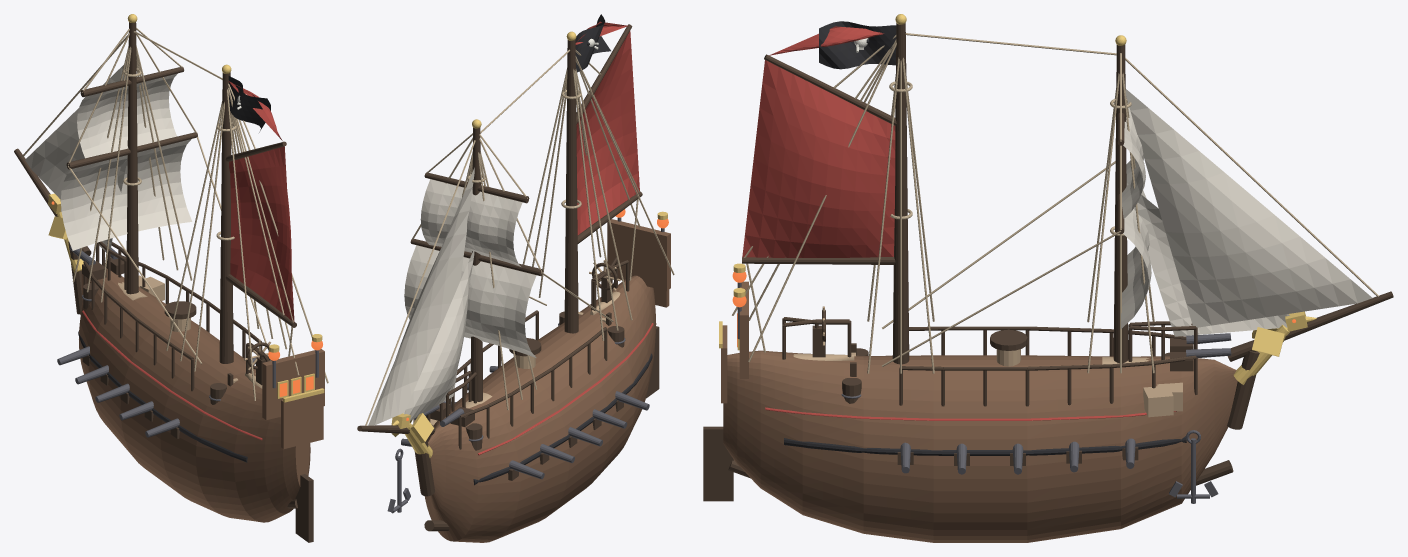
The model's file is dreadbanner_pirate_brigantine.glb.
3 views of the same model, side by side, from view 1: azimuth 30°, elevation 25°; view 2: azimuth 150°, elevation 25°; view 3: azimuth 270°, elevation 25° (orthographic). The views are drawn at different scales.
Visible parts, largest first — view 1: hull, fore_course, main_gaffsail, fore_topsail, mainmast, foremast, flying_jib, stern_wall, transom, rudder, jolly_roger, fore_yard_low (+21 smaller); view 2: hull, main_gaffsail, flying_jib, fore_course, fore_topsail, fore_staysail, mainmast, stern_wall, foremast, jolly_roger, gunport_strake, stay_bowsprit_fore (+17 smaller); view 3: hull, main_gaffsail, flying_jib, fore_staysail, mainmast, foremast, jolly_roger, fore_course, gunport_strake, rudder, fore_topsail, bowsprit (+11 smaller).
Part boxes in pixels (x1,y1,x2,y2): hull: [79, 268, 310, 522]; fore_course: [60, 139, 192, 250]; main_gaffsail: [229, 146, 294, 322]; fore_topsail: [77, 73, 177, 158]; mainmast: [219, 72, 233, 363]; foremast: [126, 22, 138, 294]; flying_jib: [25, 63, 127, 199]; stern_wall: [262, 349, 324, 420]; transom: [281, 393, 323, 448]; rudder: [295, 474, 313, 542]; jolly_roger: [228, 76, 270, 132]; fore_yard_low: [66, 132, 197, 169]; hull: [424, 275, 656, 542]; main_gaffsail: [576, 31, 639, 235]; flying_jib: [368, 167, 474, 425]; fore_course: [404, 245, 536, 357]; fore_topsail: [420, 179, 522, 266]; fore_staysail: [404, 250, 474, 420]; mainmast: [564, 39, 578, 333]; stern_wall: [607, 219, 670, 290]; foremast: [470, 127, 482, 401]; jolly_roger: [575, 14, 610, 72]; gunport_strake: [473, 353, 652, 485]; stay_bowsprit_fore: [365, 140, 475, 425]; hull: [723, 350, 1237, 542]; main_gaffsail: [742, 60, 895, 257]; flying_jib: [1125, 89, 1372, 327]; fore_staysail: [1126, 183, 1289, 336]; mainmast: [892, 23, 909, 364]; foremast: [1113, 44, 1128, 363]; jolly_roger: [819, 21, 896, 69]; fore_course: [1121, 190, 1151, 328]; gunport_strake: [784, 436, 1186, 455]; rudder: [703, 426, 733, 501]; fore_topsail: [1122, 103, 1145, 218]; bowsprit: [1227, 291, 1393, 361].
Bounding box in the file's own units: 3.92 × 10.5 × 12.54.
